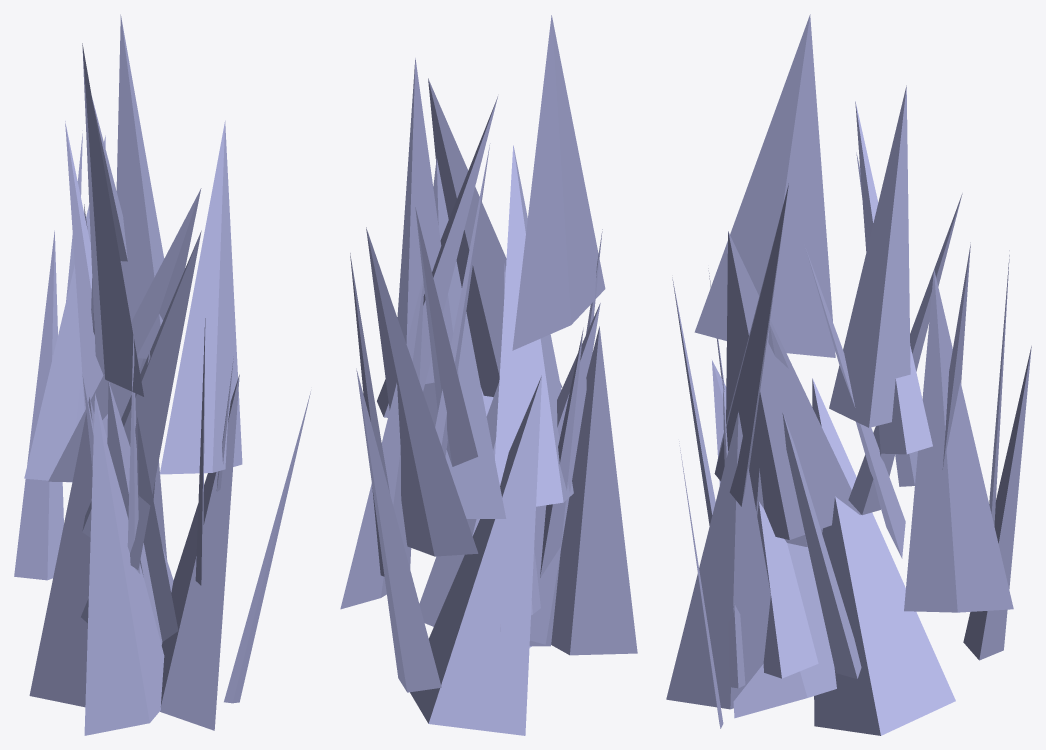
The model's file is arbusto.glb.
3 views of the same model, side by side, from view 1: azimuth 30°, elevation 25°; view 2: azimuth 150°, elevation 25°; view 3: azimuth 270°, elevation 25° (orthographic).
Visible parts, largest first — view 1: Cone.023; view 2: Cone.023; view 3: Cone.023.
Part boxes in pixels (<box>): Cone.023: <box>14,14,310,735</box>; Cone.023: <box>340,15,637,735</box>; Cone.023: <box>666,14,1031,735</box>.
Size of the model in its own units: 2.7 by 8.62 by 4.14.
